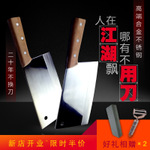knief: (60, 14, 95, 128)
